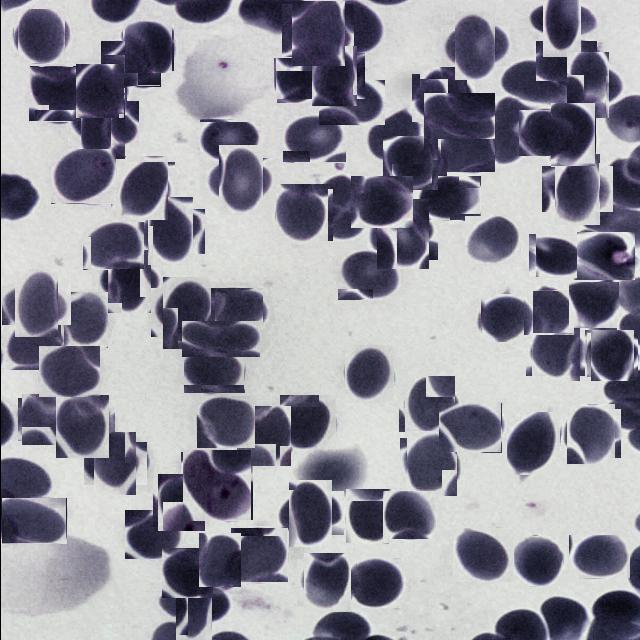red blood cell: (286, 0, 349, 62), (370, 203, 432, 264), (156, 282, 216, 343), (50, 149, 116, 204), (506, 412, 560, 476), (547, 160, 606, 218), (52, 397, 110, 456), (402, 434, 460, 492), (272, 186, 330, 244), (234, 407, 292, 465), (113, 159, 171, 217), (210, 151, 268, 209), (164, 575, 222, 633), (74, 94, 132, 152), (364, 108, 423, 164), (423, 93, 494, 139), (337, 250, 402, 300), (141, 203, 198, 260), (452, 528, 512, 582), (350, 176, 412, 228), (38, 346, 100, 398), (438, 403, 501, 453), (401, 379, 457, 435), (282, 114, 346, 163), (28, 66, 84, 122), (414, 70, 470, 126), (231, 527, 287, 583), (8, 276, 64, 332), (282, 485, 337, 541), (447, 18, 502, 73), (386, 132, 442, 186), (196, 396, 254, 448), (1, 498, 66, 544), (82, 222, 144, 270), (563, 406, 617, 461), (318, 80, 384, 125), (280, 393, 334, 448), (3, 318, 60, 370), (342, 347, 396, 401), (528, 325, 582, 379), (560, 58, 614, 112), (101, 255, 156, 308), (124, 508, 182, 558), (342, 558, 400, 608), (416, 176, 480, 221), (550, 103, 595, 167), (88, 437, 141, 490), (300, 556, 352, 610), (181, 321, 259, 357), (576, 232, 634, 280), (100, 40, 160, 86), (154, 476, 207, 528), (308, 49, 360, 102), (533, 0, 590, 48), (568, 535, 630, 579), (14, 10, 66, 62), (344, 491, 396, 543), (464, 216, 520, 264), (199, 119, 261, 162), (501, 61, 566, 102), (73, 65, 125, 116), (489, 98, 529, 164), (183, 350, 244, 393), (518, 110, 574, 156), (161, 548, 212, 598), (513, 536, 563, 586), (384, 490, 434, 540), (122, 22, 172, 72), (528, 234, 584, 278), (63, 292, 107, 348), (535, 41, 596, 81), (568, 280, 616, 330), (440, 128, 494, 172), (478, 294, 526, 342), (588, 331, 636, 379), (524, 288, 572, 336), (198, 533, 240, 587), (19, 396, 66, 443), (274, 56, 320, 102), (214, 288, 262, 330)
ring: (181, 451, 251, 521)
